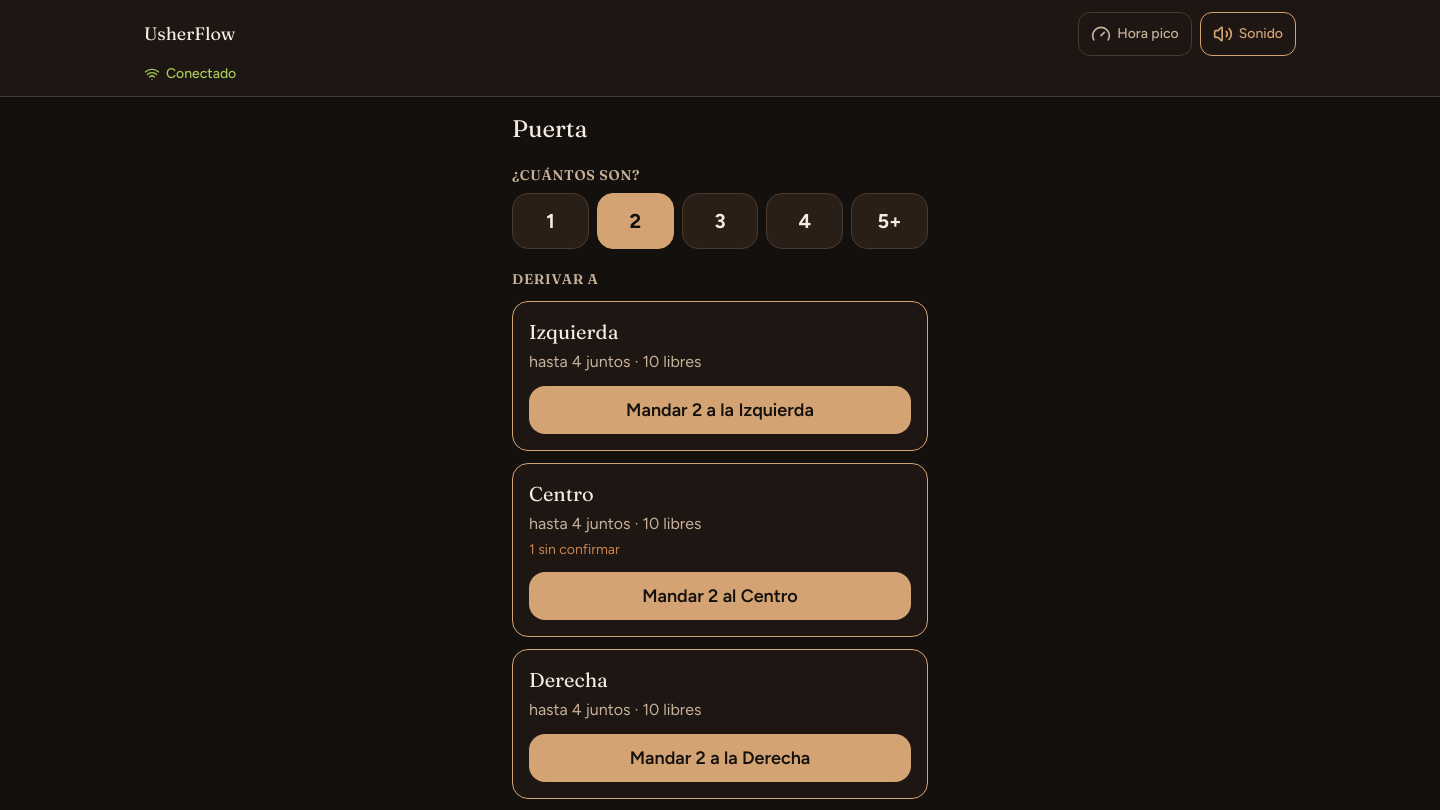
Test case: PuertaPagina › el modo pico se activa desde el encabezado y se recuerda en localStorage
Expected: the text "1 sin confirmar" is shown, [529,541,620,558]
Step 1. Click the button "Hora pico" → (1135, 34), box [1078,12,1192,56]
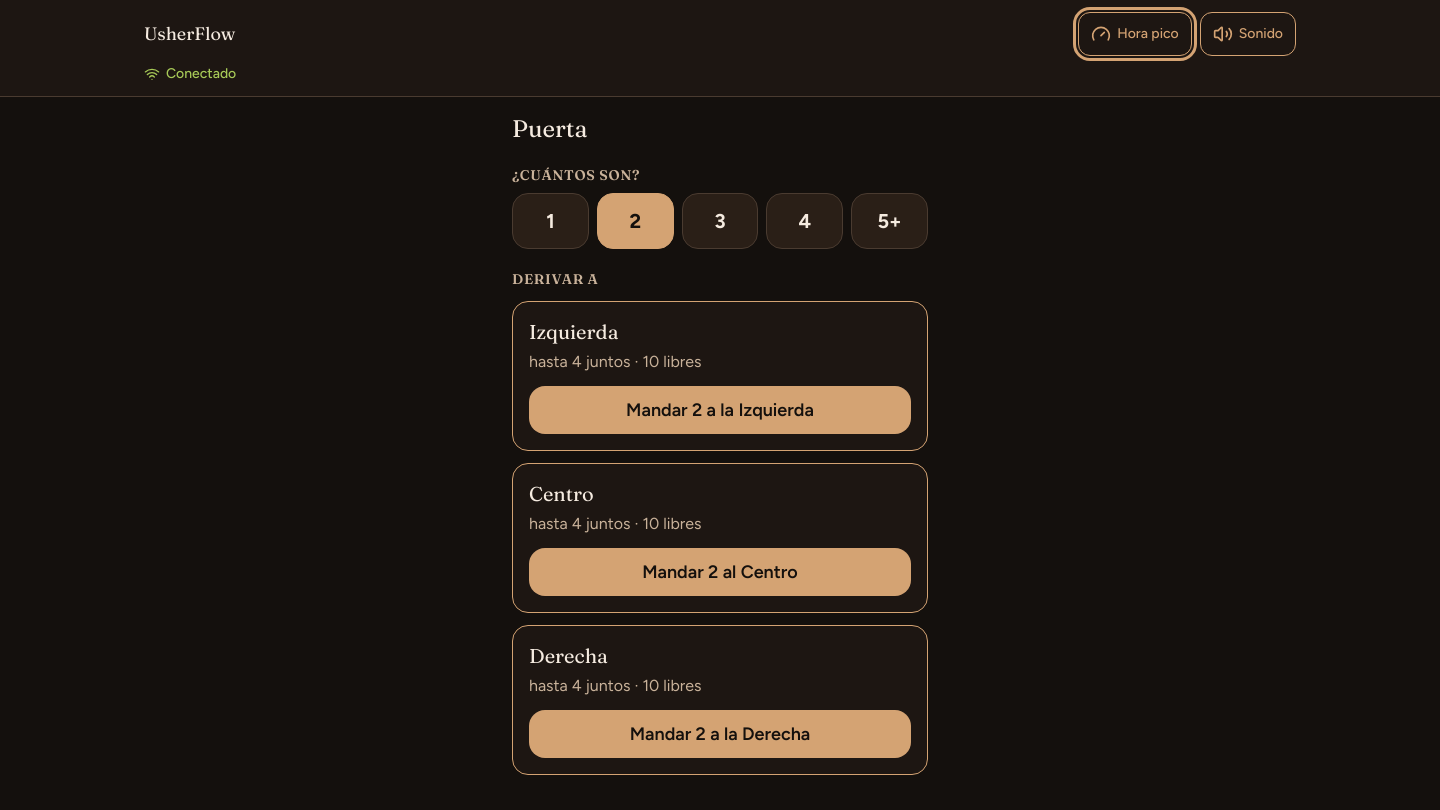
Now the text "1 sin confirmar" is gone
